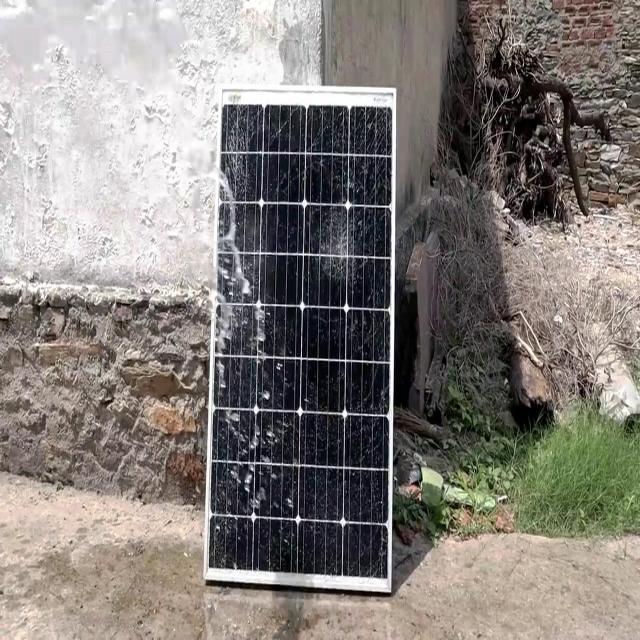faulty: (203, 87, 394, 590)
